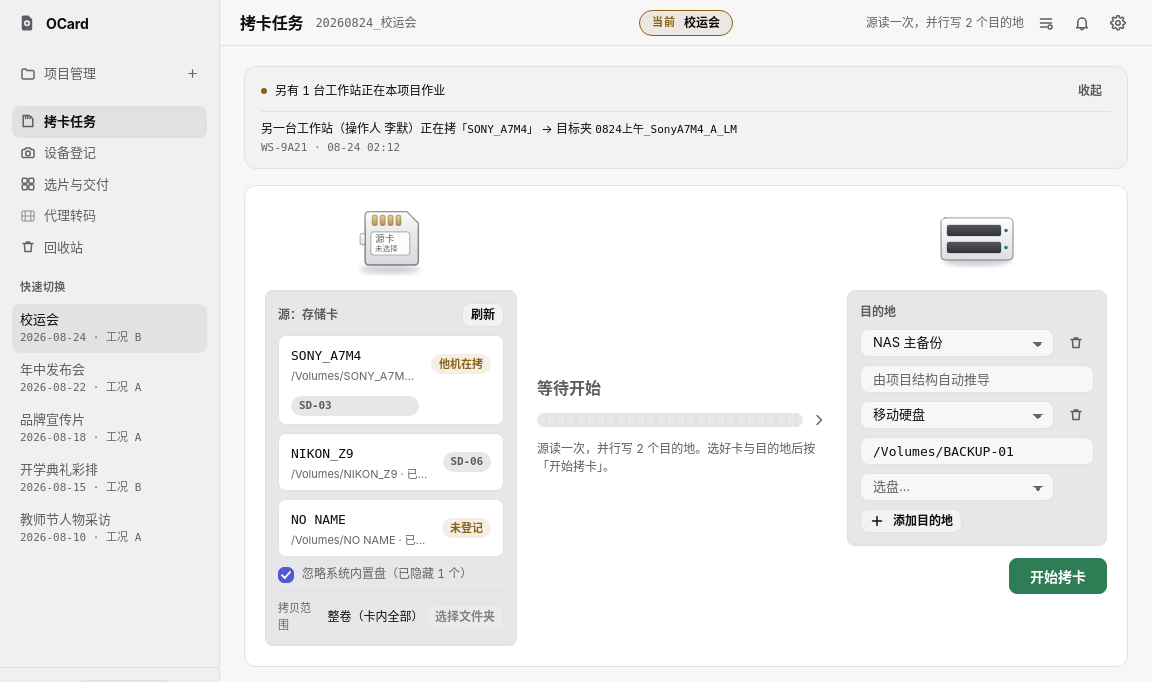
Test case: 跨机活动横幅 › 可以收起与展开
Expected: the message with test id "remote-activity-banner" is shown, [244,66,1128,169]
Expected: the element with test id "remote-activity-item" is shown, [261,121,737,154]
Click the button with test id "remote-activity-toggle": (1090, 91) [1069,79,1111,103]
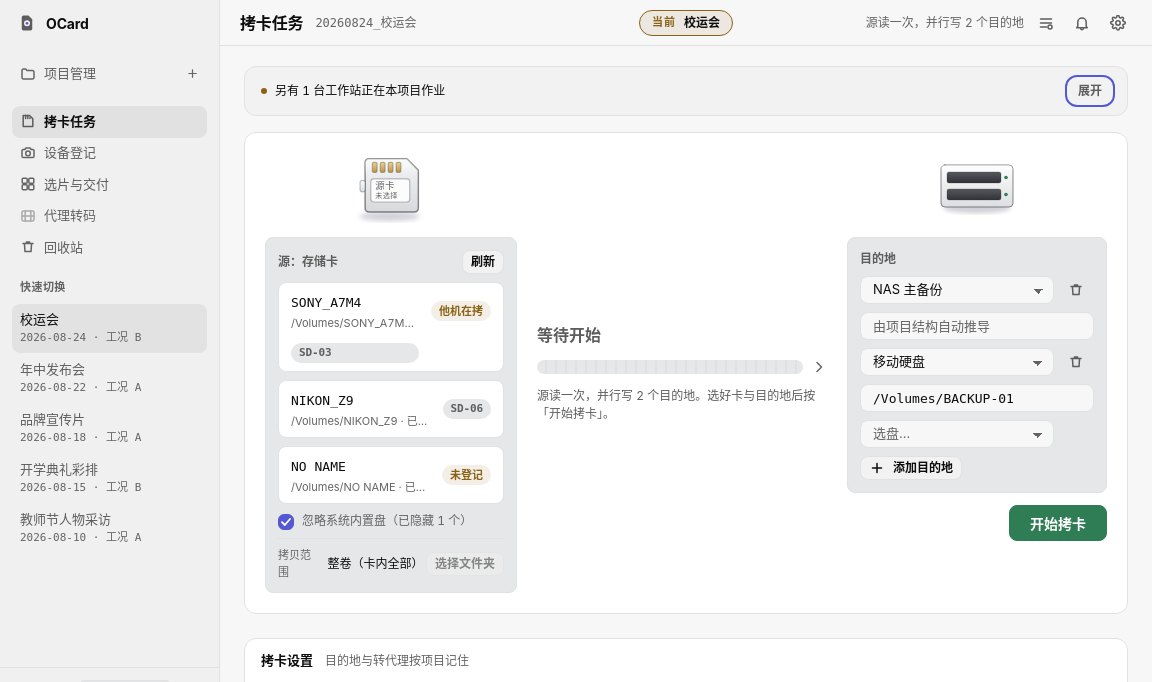
Expected: the message with test id "remote-activity-banner" shows "另有 1 台工作站", [244,66,1128,116]
Expected: the element with test id "remote-activity-item" is gone
Click the button with test id "remote-activity-toggle": (1090, 91) [1069,79,1111,103]
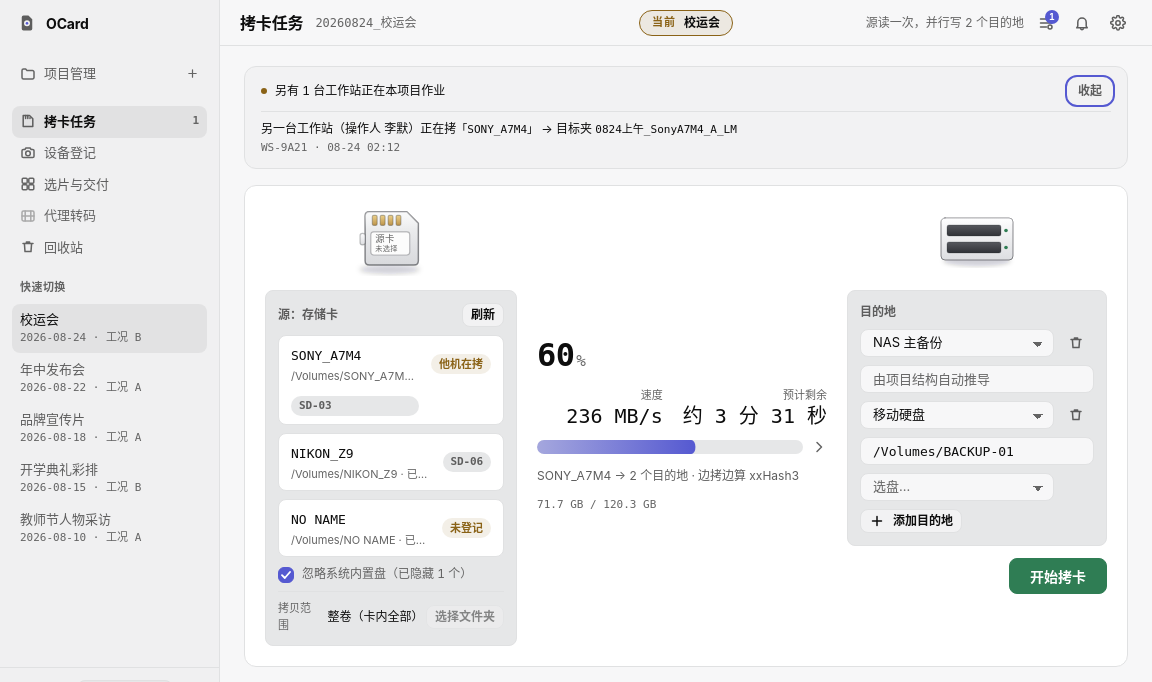
Expected: the element with test id "remote-activity-item" is shown, [261,121,737,154]
